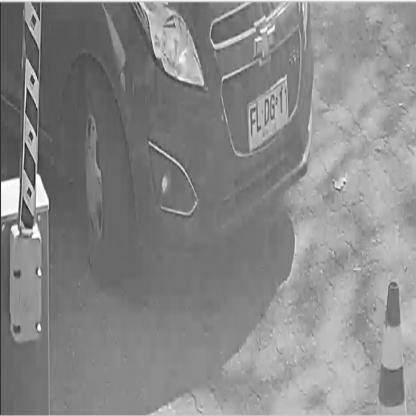Patente: (246, 70, 293, 157)
